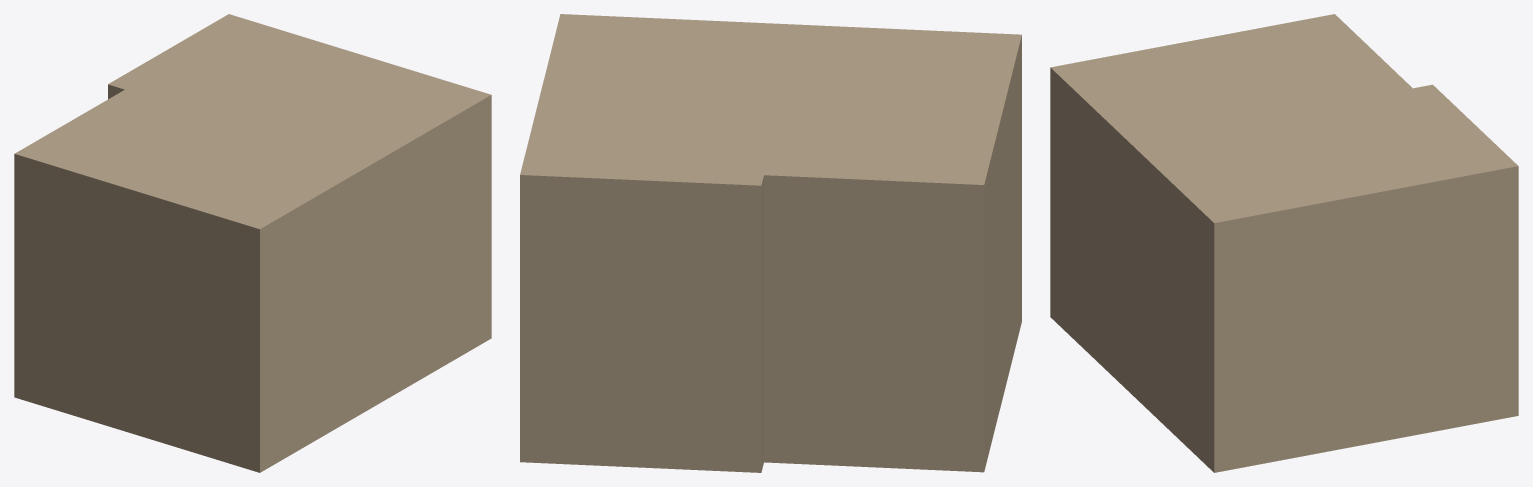
Rendered from bld_106306776.dae.
3 renders of one model, left to right at view 1: azimuth 30°, elevation 25°; view 2: azimuth 150°, elevation 25°; view 3: azimuth 270°, elevation 25°, orthographic. The views are drawn at different scales.
Parts seen in each view (by area): view 1: bld_106306776; view 2: bld_106306776; view 3: bld_106306776.
Boxes of the visible parts, x1,y1,x2,y2 form: bld_106306776: (14, 14, 491, 472); bld_106306776: (520, 14, 1021, 472); bld_106306776: (1050, 14, 1518, 472).
Bounding box in the file's own units: 14.37 × 13.59 × 8.
